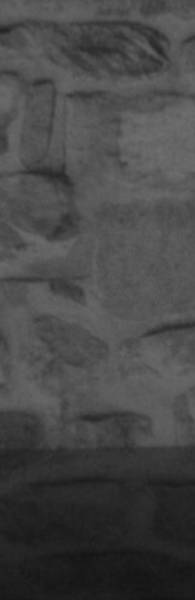water: (0, 449, 195, 600)
